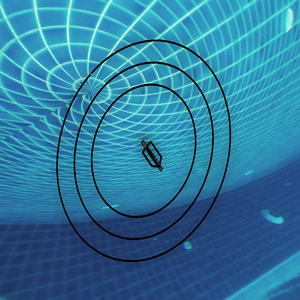circle: (43, 29, 245, 262)
submarine: (142, 139, 162, 168)
